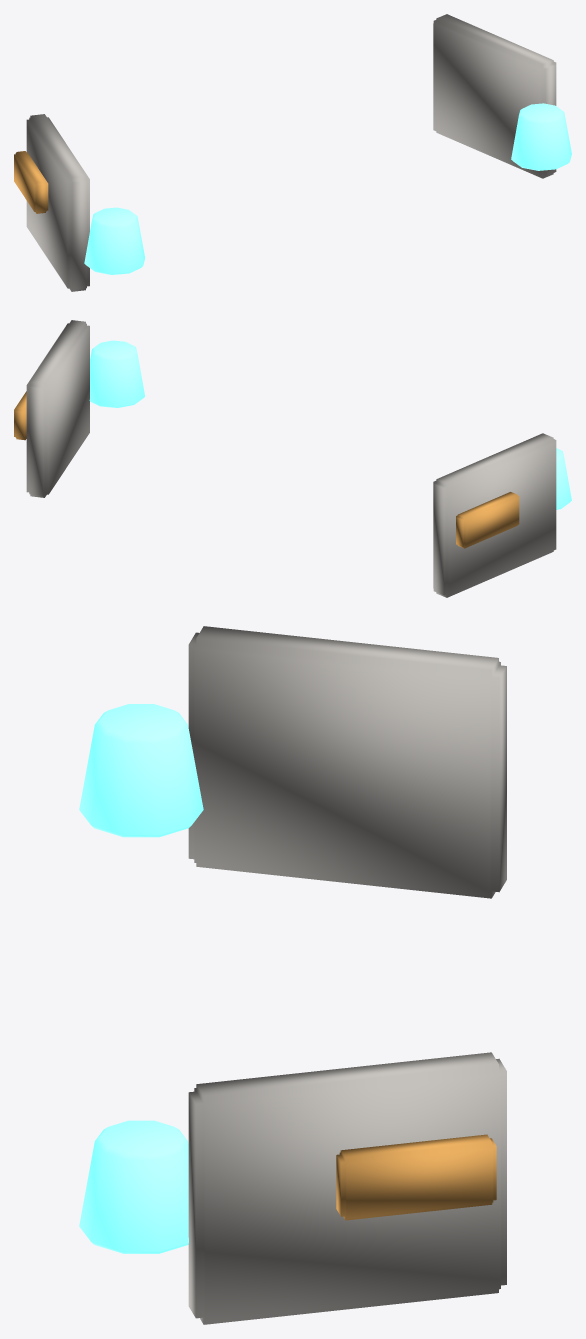
The model's file is thruster_fin.glb.
3 views of the same model, one above another, from view 1: azimuth 30°, elevation 25°; view 2: azimuth 150°, elevation 25°; view 3: azimuth 270°, elevation 25° (orthographic). The views are drawn at different scales.
Visible parts, largest first — view 1: thruster_fin; view 2: thruster_fin; view 3: thruster_fin.
Part boxes in pixels (x1,y1,x2,y2): thruster_fin: [14, 14, 571, 291]; thruster_fin: [14, 320, 571, 597]; thruster_fin: [79, 626, 506, 1324].
Size of the model in its own units: 0.9846 by 0.22 by 0.3732.
